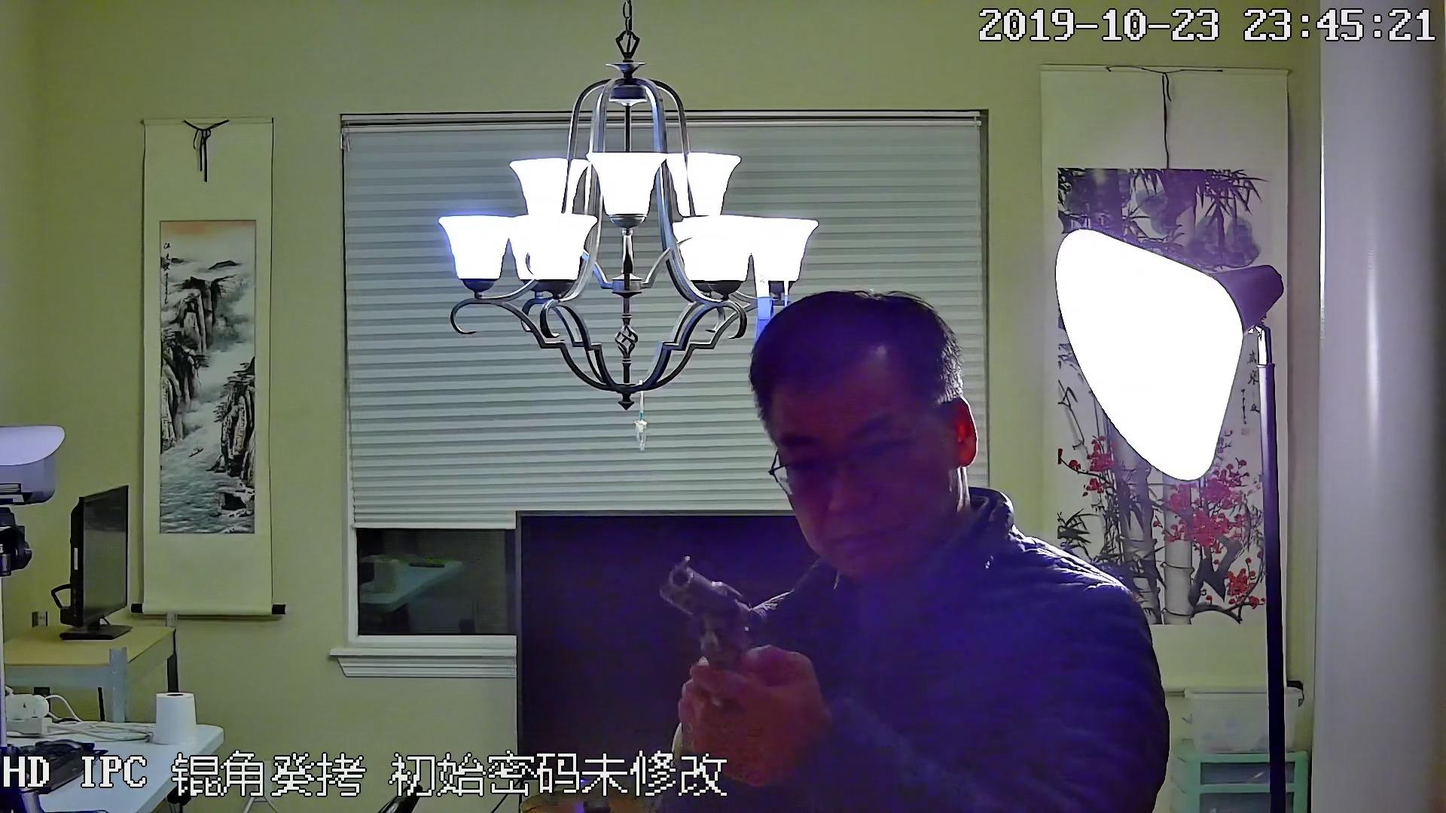gun: (657, 550, 814, 786)
